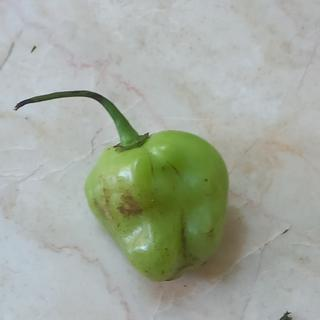Defect: (112, 182, 148, 222), (175, 221, 195, 265)
Fly-bites: (204, 177, 210, 184)
